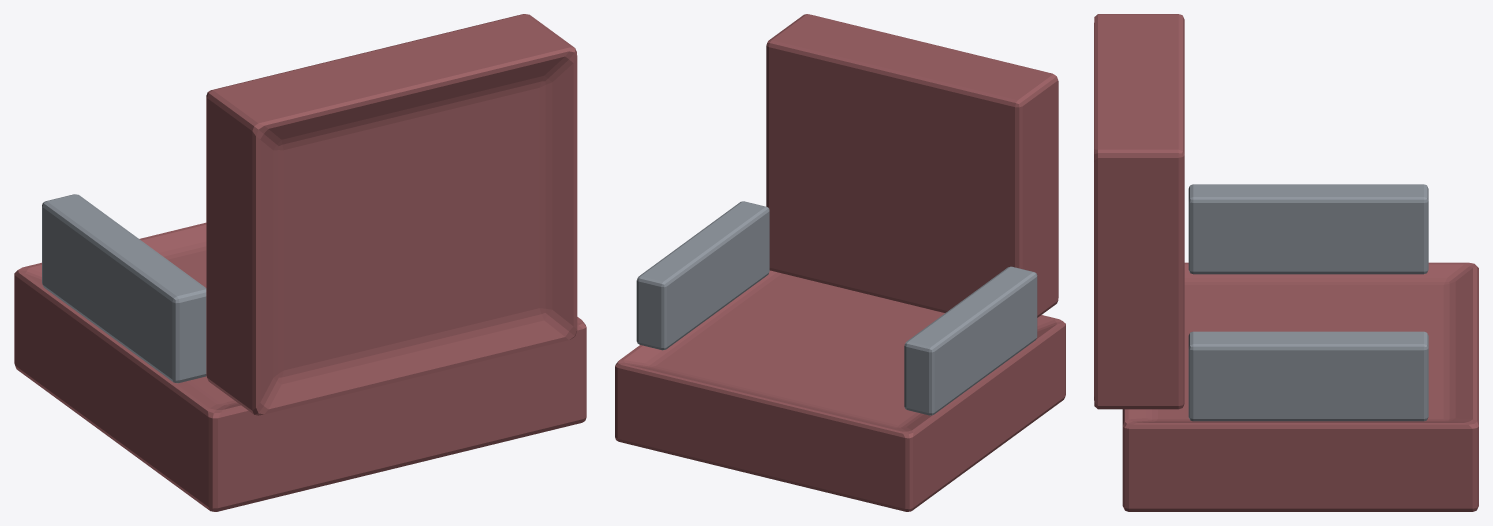
File: seat.glb
The picture shows the model from 3 angles, left to right: view 1: azimuth 30°, elevation 25°; view 2: azimuth 150°, elevation 25°; view 3: azimuth 270°, elevation 25°; orthographic projection. The views are drawn at different scales.
Parts seen in each view (by area): view 1: seat; view 2: seat; view 3: seat.
Part boxes in pixels (box(x1,y1,x2,y2)): seat: box(14, 14, 586, 511); seat: box(615, 14, 1065, 511); seat: box(1094, 14, 1478, 511).
Bounding box in the file's own units: 1 × 1 × 0.9941.
